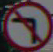Don't turn left: (3, 5, 45, 45)
